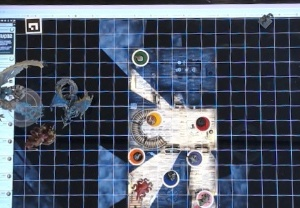blue: (163, 169, 180, 189)
green: (127, 48, 151, 68)
orange: (127, 146, 146, 165)
pink: (193, 188, 218, 206)
red: (194, 115, 212, 135)
violet: (186, 147, 203, 166)
yellow: (144, 108, 165, 128)
